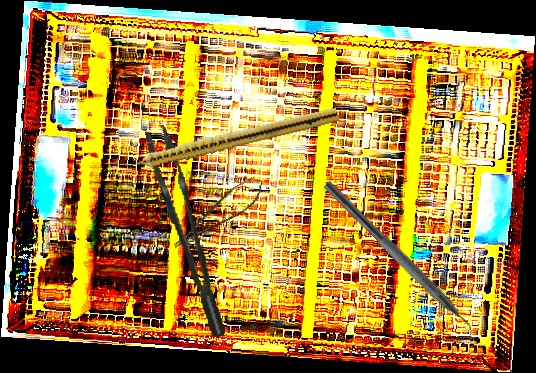Chopper: (312, 180, 487, 350)
Handpiece: (119, 102, 340, 176)
Micro Scissor: (163, 172, 271, 252)
Tissue Forceps: (144, 120, 226, 344)
